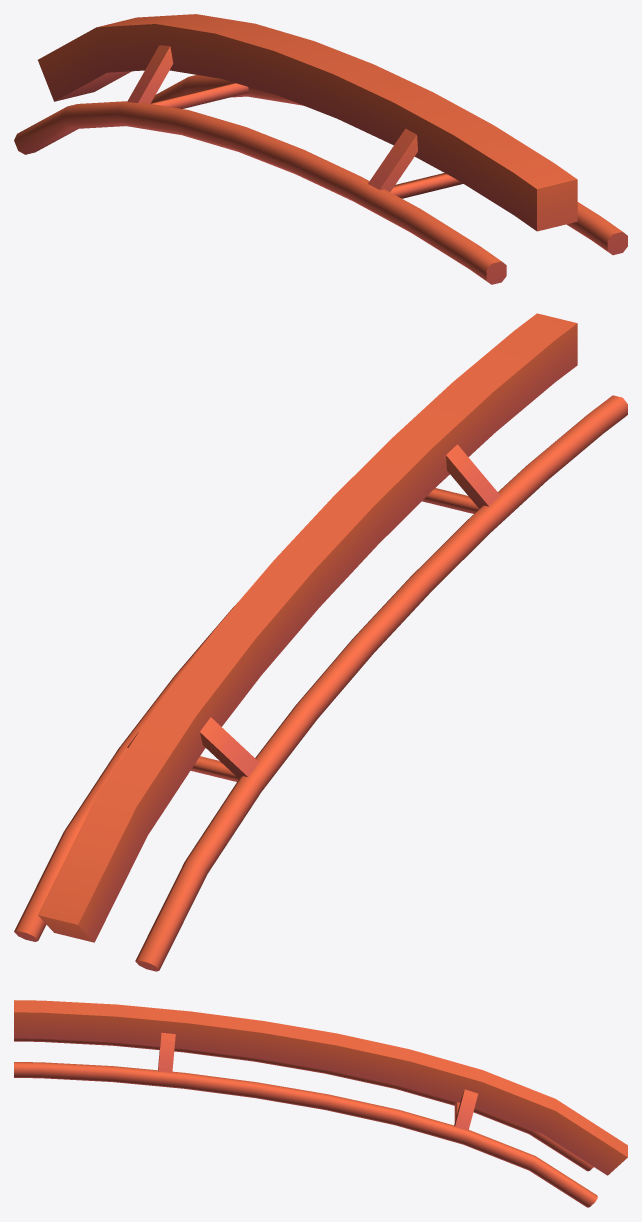
Rendered from coaster-hanging-straight-hill-end.glb.
The picture shows the model from 3 angles, top to bottom: view 1: azimuth 30°, elevation 25°; view 2: azimuth 150°, elevation 25°; view 3: azimuth 270°, elevation 25°; orthographic projection. The views are drawn at different scales.
Visible parts, largest first — view 1: coaster-hanging-straight-hill-end; view 2: coaster-hanging-straight-hill-end; view 3: coaster-hanging-straight-hill-end.
Part boxes in pixels (x1,y1,x2,y2): coaster-hanging-straight-hill-end: (14, 14, 627, 284); coaster-hanging-straight-hill-end: (14, 313, 627, 971); coaster-hanging-straight-hill-end: (14, 1000, 627, 1207).
Size of the model in its own units: 0.7001 by 1.4 by 4.28.
1 material, 1 textured.
